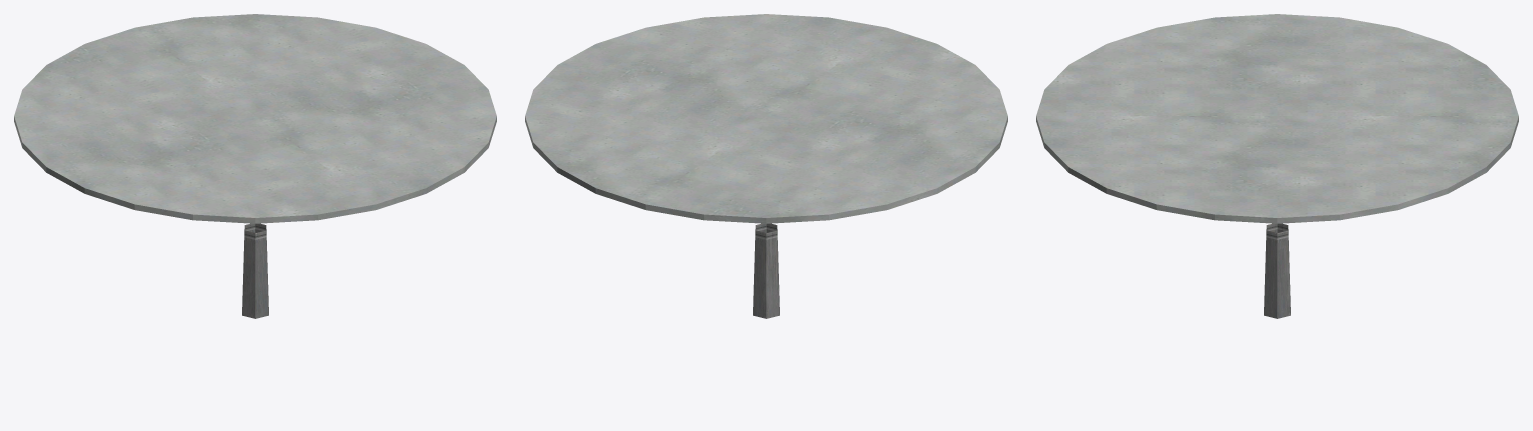
The model's file is frn_all_mdrn_table_s01_l0.fbx.
The picture shows the model from 3 angles, left to right: view 1: azimuth 30°, elevation 25°; view 2: azimuth 150°, elevation 25°; view 3: azimuth 270°, elevation 25°; orthographic projection.
Parts seen in each view (by area): view 1: mesh_node; view 2: mesh_node; view 3: mesh_node.
Boxes of the visible parts, left/top/right/bottom form: mesh_node: left=14, top=14, right=496, bottom=318; mesh_node: left=525, top=14, right=1007, bottom=318; mesh_node: left=1036, top=14, right=1518, bottom=318.
Bounding box in the file's own units: 1.52 × 0.89 × 1.52.
